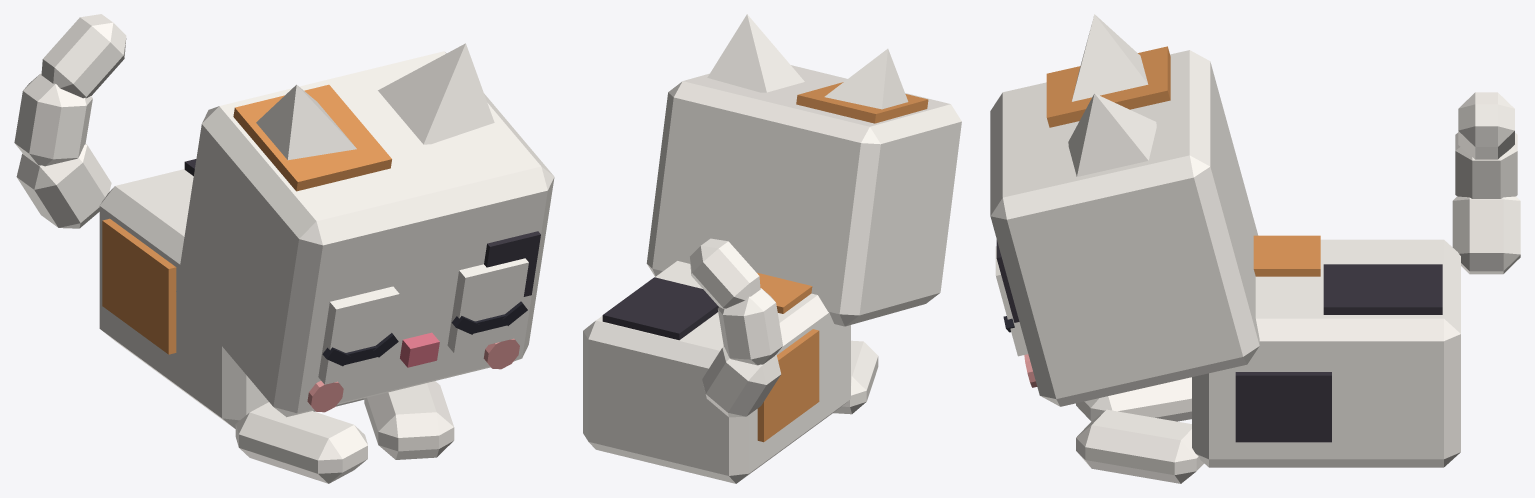
File: CleanACat_Cat_Patches_Loaf_Lite.fbx
3 renders of one model, left to right at view 1: azimuth 30°, elevation 25°; view 2: azimuth 150°, elevation 25°; view 3: azimuth 270°, elevation 25°, orthographic. The views are drawn at different scales.
Parts seen in each view (by area): view 1: CleanACat_Cat_Patches_Loaf_Lite_Head, CleanACat_Cat_Patches_Loaf_Lite_Body, CleanACat_Cat_Patches_Loaf_Lite_Tail, CleanACat_Cat_Patches_Loaf_Lite_Paws, CleanACat_Cat_Patches_Loaf_Lite_EarL, CleanACat_Cat_Patches_Loaf_Lite_Eye2, CleanACat_Cat_Patches_Loaf_Lite_Eye1, CleanACat_Cat_Patches_Loaf_Lite_EarR; view 2: CleanACat_Cat_Patches_Loaf_Lite_Head, CleanACat_Cat_Patches_Loaf_Lite_Body, CleanACat_Cat_Patches_Loaf_Lite_Tail, CleanACat_Cat_Patches_Loaf_Lite_EarL, CleanACat_Cat_Patches_Loaf_Lite_EarR, CleanACat_Cat_Patches_Loaf_Lite_Paws; view 3: CleanACat_Cat_Patches_Loaf_Lite_Head, CleanACat_Cat_Patches_Loaf_Lite_Body, CleanACat_Cat_Patches_Loaf_Lite_Tail, CleanACat_Cat_Patches_Loaf_Lite_Paws, CleanACat_Cat_Patches_Loaf_Lite_EarL, CleanACat_Cat_Patches_Loaf_Lite_EarR, CleanACat_Cat_Patches_Loaf_Lite_Eye1.
Boxes of the visible parts, box(x1,y1,x2,y2) form: CleanACat_Cat_Patches_Loaf_Lite_Head: box(176, 51, 554, 417); CleanACat_Cat_Patches_Loaf_Lite_Body: box(99, 159, 364, 428); CleanACat_Cat_Patches_Loaf_Lite_Tail: box(14, 14, 126, 228); CleanACat_Cat_Patches_Loaf_Lite_Paws: box(235, 381, 454, 483); CleanACat_Cat_Patches_Loaf_Lite_EarL: box(378, 43, 494, 144); CleanACat_Cat_Patches_Loaf_Lite_Eye2: box(318, 286, 399, 384); CleanACat_Cat_Patches_Loaf_Lite_Eye1: box(447, 258, 528, 353); CleanACat_Cat_Patches_Loaf_Lite_EarR: box(256, 84, 356, 160); CleanACat_Cat_Patches_Loaf_Lite_Head: box(646, 65, 961, 326); CleanACat_Cat_Patches_Loaf_Lite_Body: box(583, 261, 850, 483); CleanACat_Cat_Patches_Loaf_Lite_Tail: box(690, 238, 782, 417); CleanACat_Cat_Patches_Loaf_Lite_EarL: box(707, 14, 804, 92); CleanACat_Cat_Patches_Loaf_Lite_EarR: box(824, 48, 908, 109); CleanACat_Cat_Patches_Loaf_Lite_Paws: box(833, 340, 878, 414); CleanACat_Cat_Patches_Loaf_Lite_Head: box(990, 46, 1259, 406); CleanACat_Cat_Patches_Loaf_Lite_Body: box(1192, 235, 1460, 467); CleanACat_Cat_Patches_Loaf_Lite_Tail: box(1452, 92, 1520, 274); CleanACat_Cat_Patches_Loaf_Lite_Paws: box(1076, 377, 1203, 483); CleanACat_Cat_Patches_Loaf_Lite_EarL: box(1068, 93, 1156, 176); CleanACat_Cat_Patches_Loaf_Lite_EarR: box(1072, 14, 1148, 101); CleanACat_Cat_Patches_Loaf_Lite_Eye1: box(995, 246, 1028, 356).
Bounding box in the file's own units: 1.11 × 1.52 × 1.87.
1 material, 1 textured.
